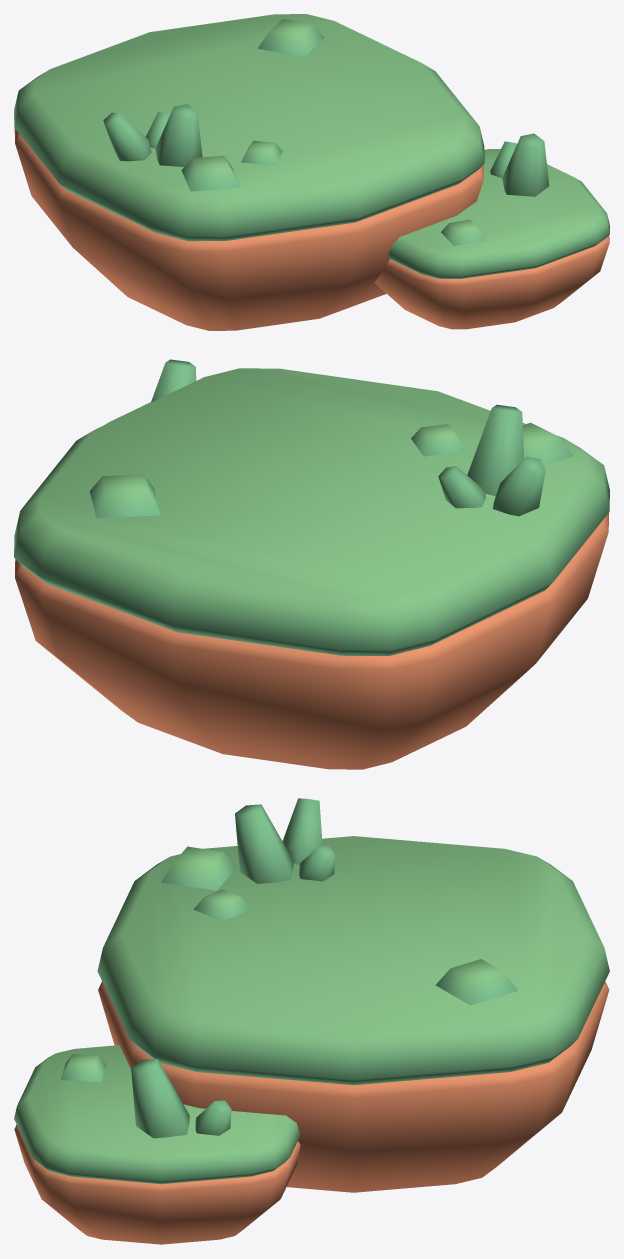
The model's file is platform.obj.
The picture shows the model from 3 angles, top to bottom: view 1: azimuth 30°, elevation 25°; view 2: azimuth 150°, elevation 25°; view 3: azimuth 270°, elevation 25°; orthographic projection. The views are drawn at different scales.
Visible parts, largest first — view 1: platform; view 2: platform; view 3: platform.
Boxes of the visible parts, x1,y1,x2,y2 form: platform: (14,14,609,330); platform: (14,359,609,769); platform: (14,798,609,1244).
Bounding box in the file's own units: 1 × 0.4696 × 1.
1 material, 1 textured.
